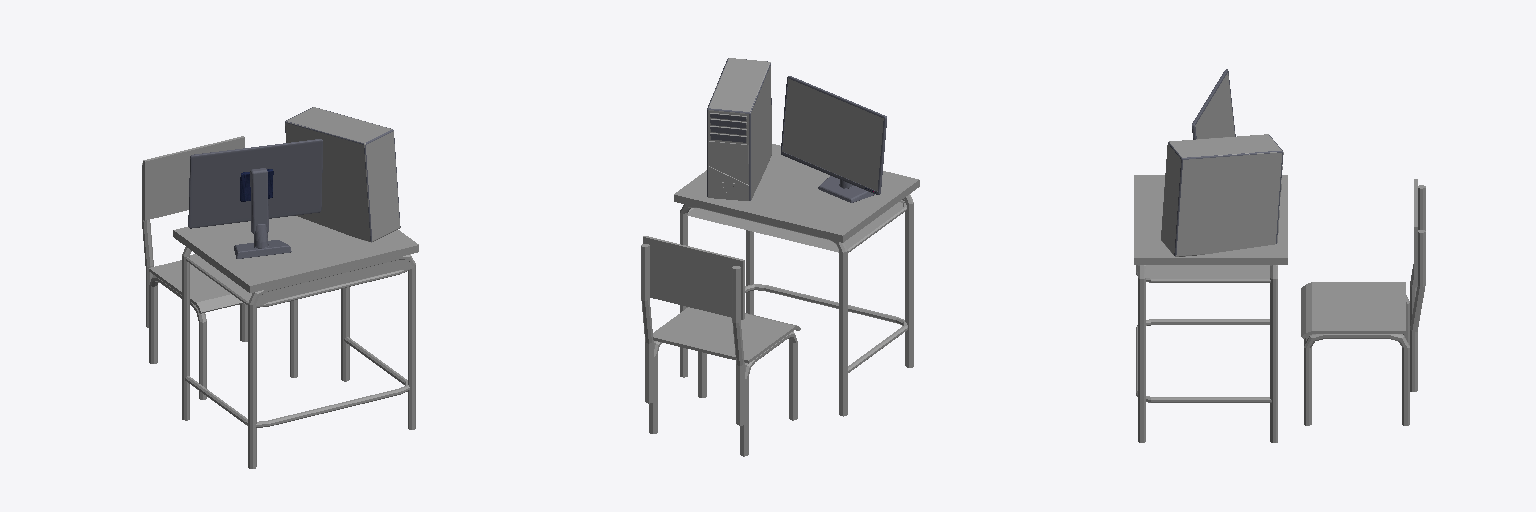
The picture shows the model from 3 angles: view 1: azimuth 30°, elevation 25°; view 2: azimuth 150°, elevation 25°; view 3: azimuth 270°, elevation 25°; orthographic projection.
Parts seen in each view (by area): view 1: Cube.006, PC, Cube.005, Cube.007, Cube.001, Cube.002; view 2: Cube.006, Cube.007, PC, Plane.001, Cube.005, Cube.002; view 3: PC, Cube.006, Cube.007, Plane.001.
Part boxes in pixels (x1,y1,x2,y2): Cube.006: (173, 216, 418, 468); PC: (285, 107, 400, 242); Cube.005: (188, 139, 322, 228); Cube.007: (142, 136, 297, 399); Cube.001: (250, 168, 268, 234); Cube.002: (234, 240, 291, 258); Cube.006: (674, 144, 919, 416); Cube.007: (641, 236, 800, 456); PC: (707, 58, 771, 200); Plane.001: (782, 79, 883, 190); Cube.005: (781, 76, 886, 194); Cube.002: (818, 176, 874, 202); PC: (1161, 134, 1283, 256); Cube.006: (1134, 175, 1287, 442); Cube.007: (1301, 179, 1425, 425); Plane.001: (1195, 73, 1234, 138).
Bounding box in the file's own units: 4.55 × 6.74 × 6.22.
Materials: 13 (2 with a texture image).